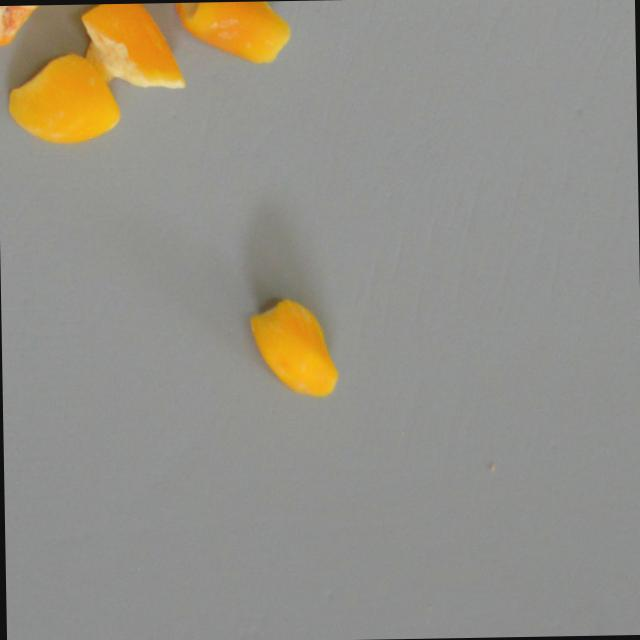dañado: (0, 5, 56, 49)
estandar: (5, 51, 121, 145), (248, 297, 339, 397)
pelicula: (78, 2, 187, 94), (173, 0, 293, 66)
